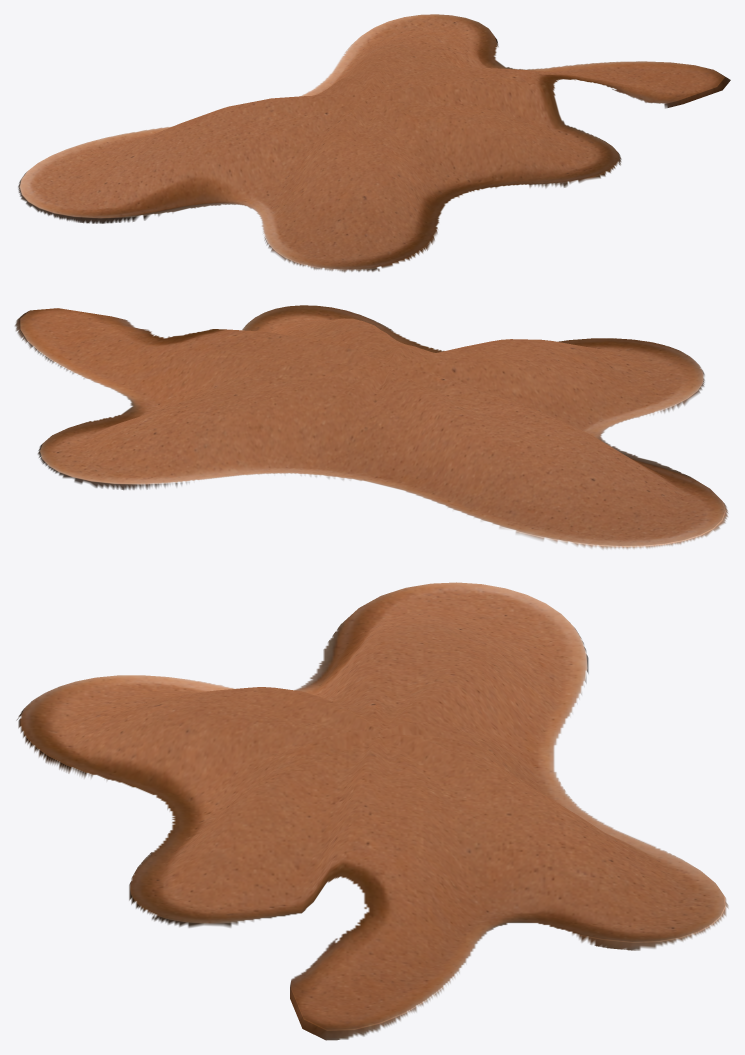
Rendered from dirt_5.glb.
The picture shows the model from 3 angles, top to bottom: view 1: azimuth 30°, elevation 25°; view 2: azimuth 150°, elevation 25°; view 3: azimuth 270°, elevation 25°; orthographic projection. The views are drawn at different scales.
Visible parts, largest first — view 1: dirt_5; view 2: dirt_5; view 3: dirt_5.
Part boxes in pixels (x1,y1,x2,y2): dirt_5: [18, 14, 730, 272]; dirt_5: [14, 305, 728, 549]; dirt_5: [16, 582, 728, 1040].
Bounding box in the file's own units: 0.8632 × 0.0687 × 0.5747.
Materials: 1 (1 with a texture image).
